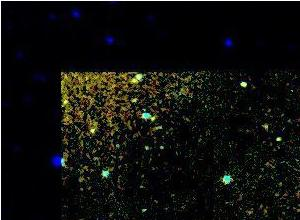star: (228, 71, 258, 101)
